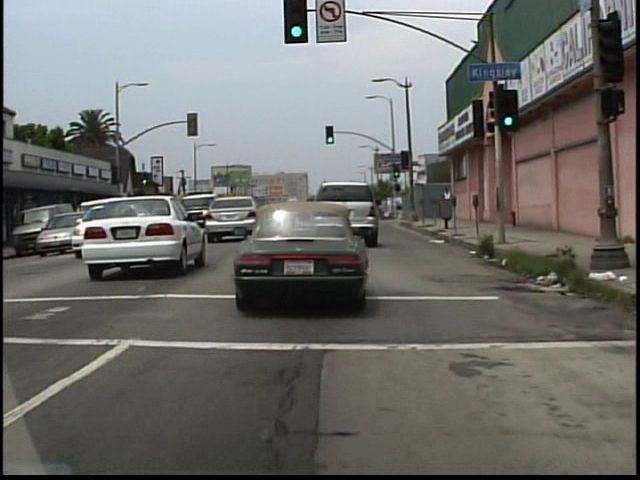person: (441, 185, 455, 221)
